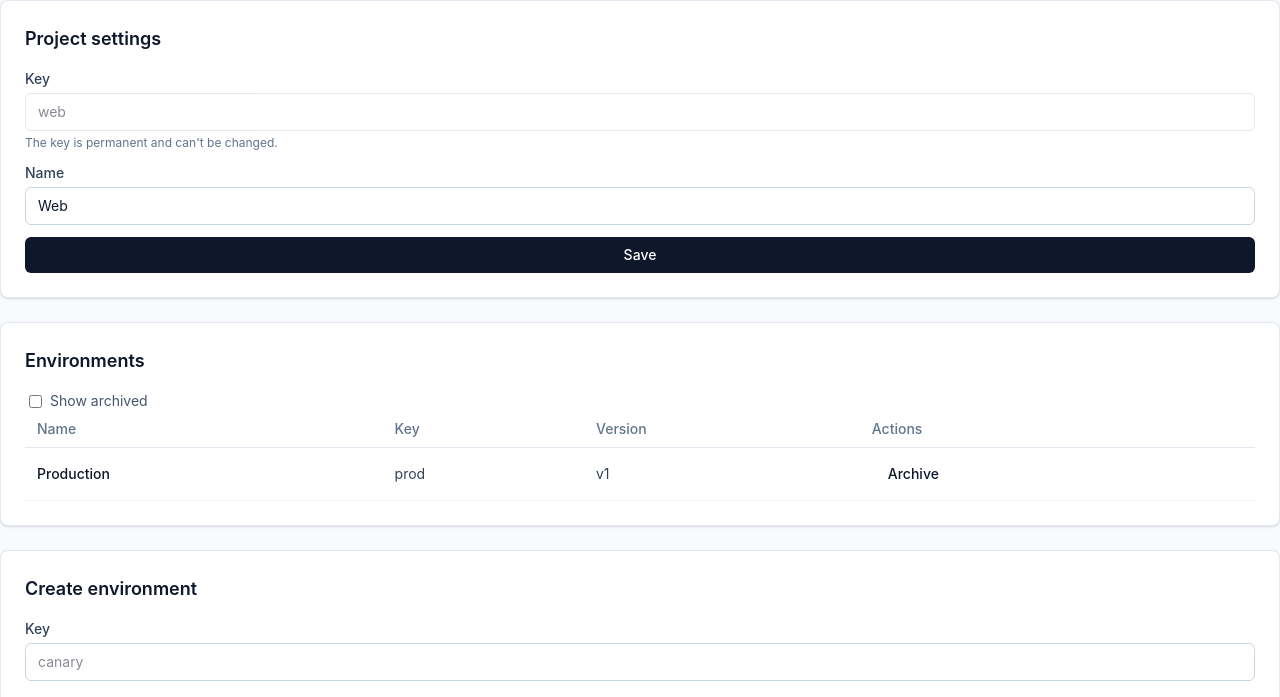
Scenario: ProjectEnvironmentsRoute archive/restore › hides archived envs by default and reveals them via the toggle
The width and height of the screenshot is (1280, 697).
expect the link "Production" is shown: met, box x1=37 y1=465 x2=110 y2=482
expect the text "Legacy" is not shown: met
Click the checkbox labelled "Show archived": [36, 401] box x1=29 y1=394 x2=42 y2=408
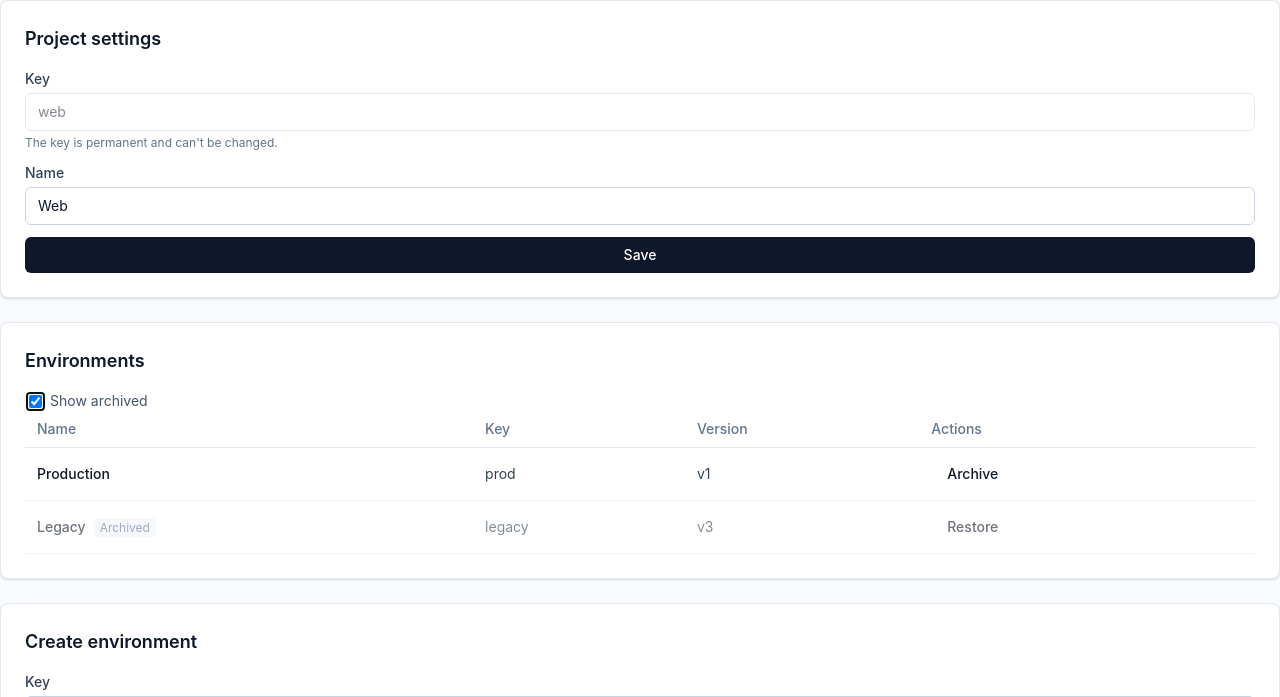
expect the link "Legacy" is shown: met, box x1=37 y1=518 x2=86 y2=535
expect the text "Archived" is shown: met, box x1=94 y1=518 x2=156 y2=537
